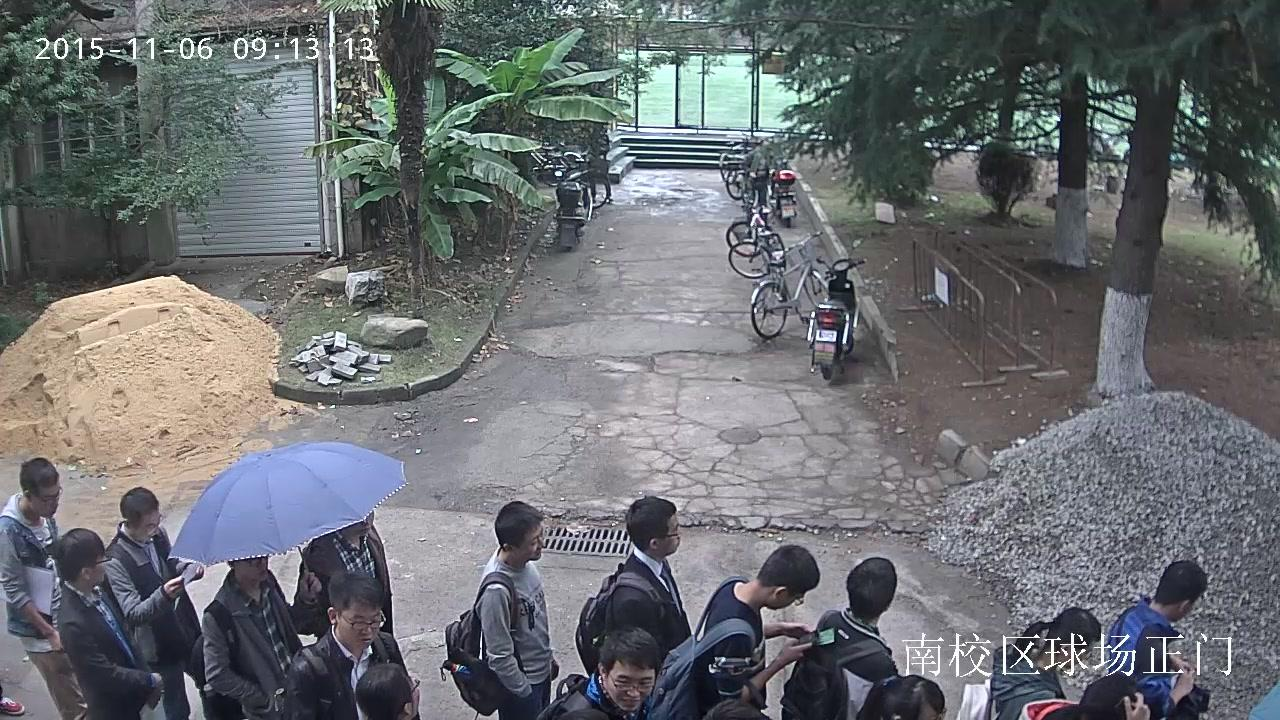face: (604, 660, 654, 712), (336, 600, 382, 650), (514, 524, 543, 560), (131, 509, 161, 542), (656, 514, 680, 554), (32, 483, 60, 517), (1070, 642, 1094, 669), (766, 593, 804, 609), (351, 512, 374, 535), (248, 557, 269, 582), (91, 553, 106, 583), (918, 704, 946, 720), (411, 676, 419, 718), (1178, 604, 1194, 620)
